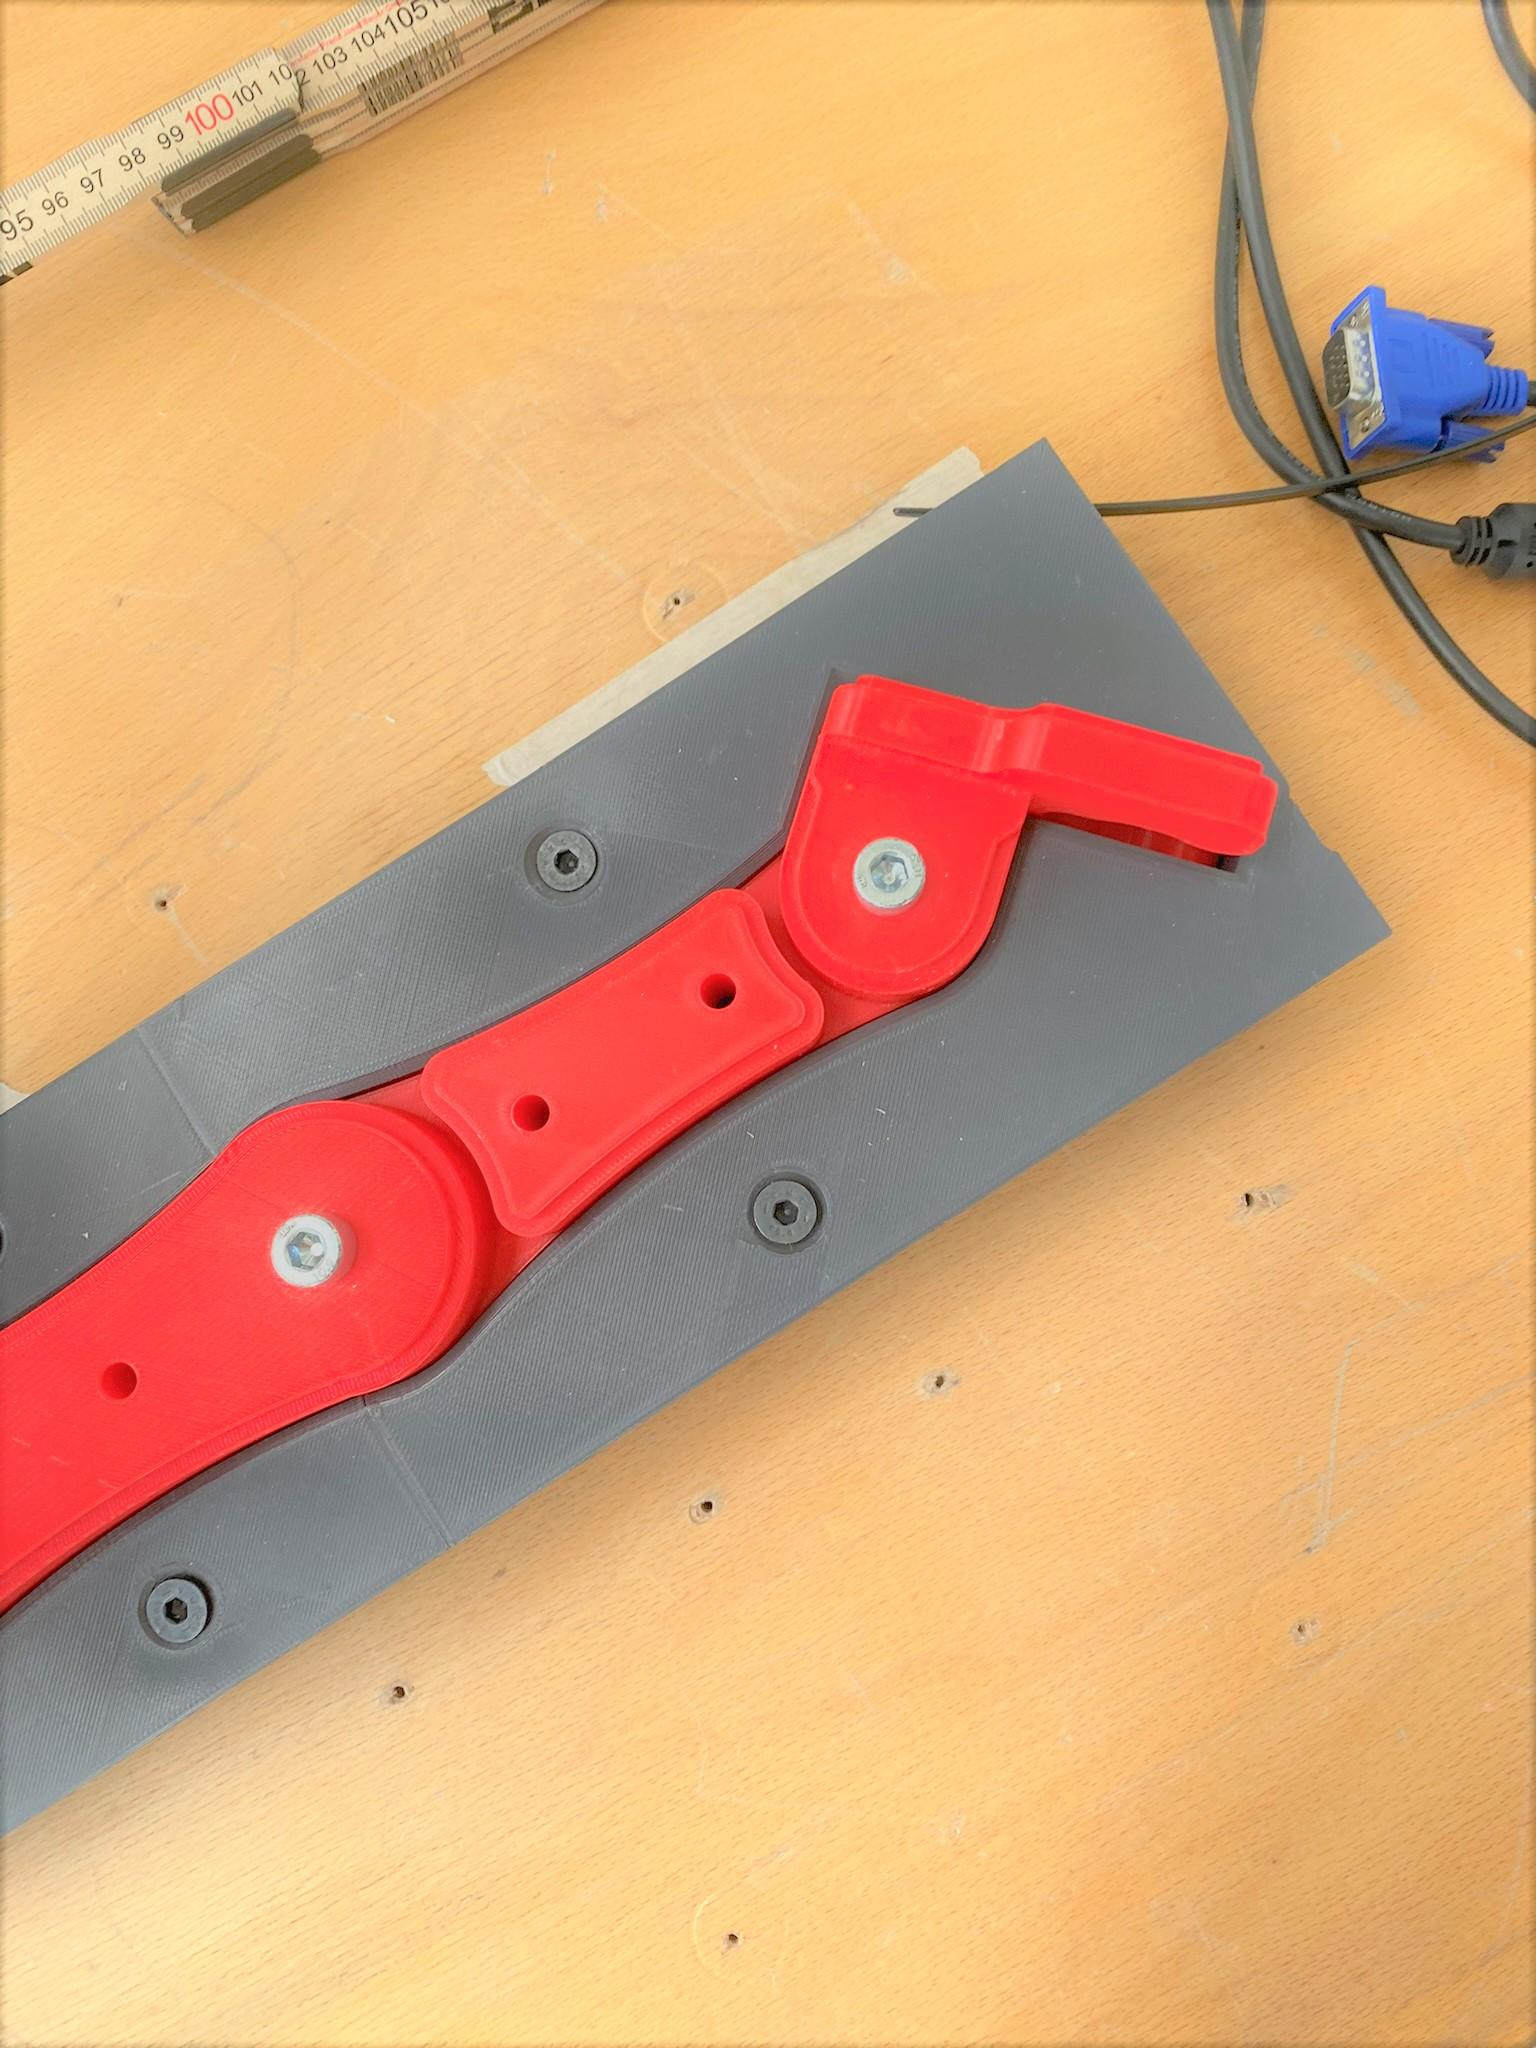H: (268, 1213, 345, 1292), (854, 839, 929, 914), (752, 1176, 824, 1248), (142, 1580, 211, 1646), (541, 827, 599, 892)
